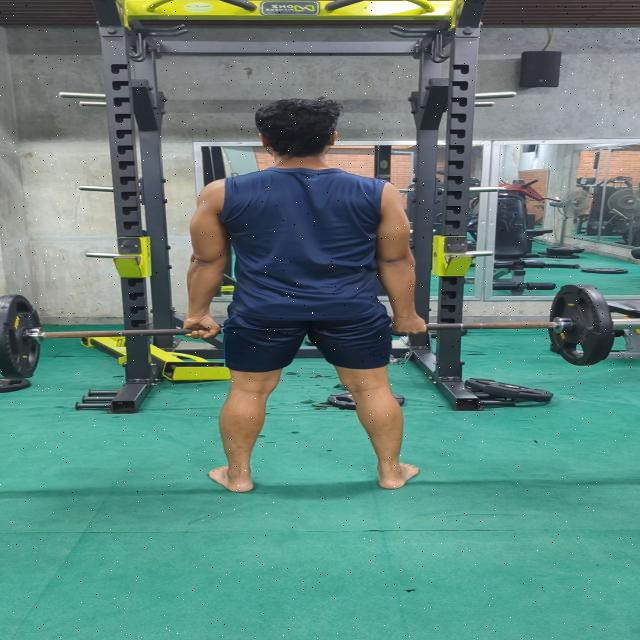Normal_Deadlifts: (180, 94, 432, 494)
